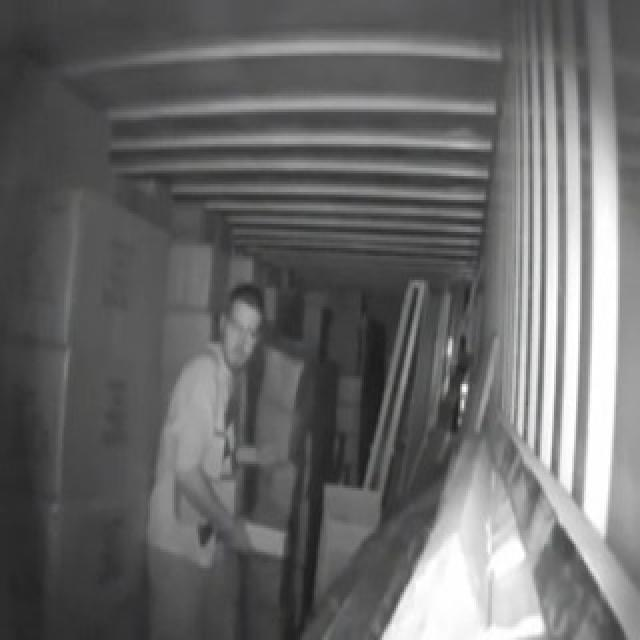thief: (159, 267, 285, 636)
